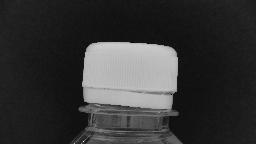Broken Ring: (122, 80, 182, 110)
